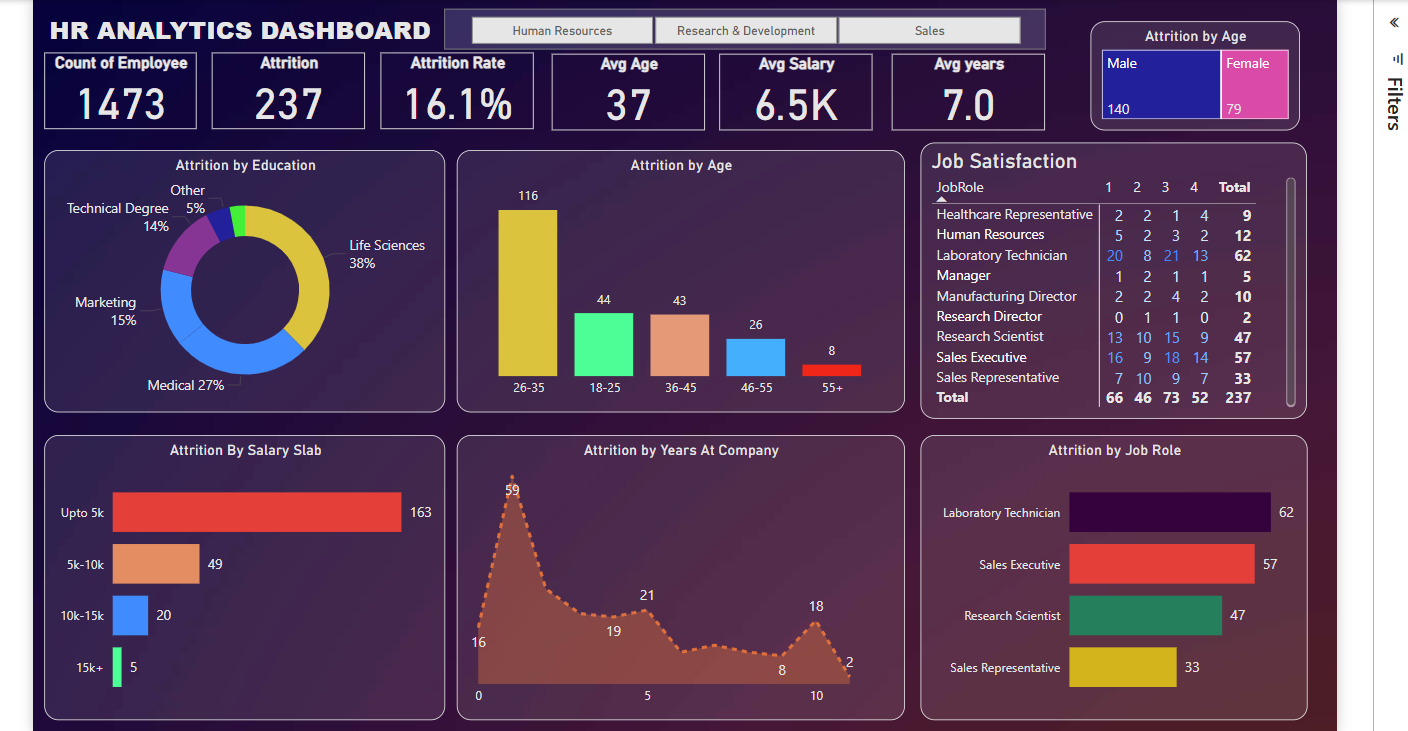

Layout of this report page (visuals, bound fields, positions):
{"tool":"powerbi","page":{"name":"Page 1","canvas":[1280,720],"ordinal":0},"visuals":[{"type":"card","title":"Count of Employee","fields":{"Values":["CountNonNull(Main data.EmpID)"]},"box":[10.7,51.6,149.8,74.9],"z":0},{"type":"card","title":"Attrition","fields":{"Values":["Sum(Main data.AttritionCount)"]},"box":[175.1,51.6,150.8,74.9],"z":1000},{"type":"card","title":"Attrition Rate","fields":{"Values":["Main data.AttritionRate"]},"box":[341.4,51.6,150.8,74.9],"z":2000},{"type":"card","title":"Avg Age","fields":{"Values":["Avg(Main data.Age)"]},"box":[509.7,52.5,150.8,74.9],"z":3000},{"type":"card","title":"Avg Salary","fields":{"Values":["Avg(Main data.MonthlyIncome)"]},"box":[674,52.5,150.8,74.9],"z":4000},{"type":"card","title":"Avg years","fields":{"Values":["Avg(Main data.YearsAtCompany)"]},"box":[843.3,52.5,150.8,74.9],"z":5000},{"type":"donutChart","title":"Attrition by Education","fields":{"Category":["Main data.EducationField"],"Y":["Sum(Main data.AttritionCount)"]},"box":[10.7,146.9,393.9,257.8],"z":6000},{"type":"columnChart","title":"Attrition by Age","fields":{"Category":["Main data.AgeGroup"],"Y":["Sum(Main data.AttritionCount)"]},"box":[416.3,146.9,439.6,257.8],"z":7000},{"type":"pivotTable","title":"Job Satisfaction","fields":{"Rows":["Main data.JobRole"],"Columns":["Main data.JobSatisfaction"],"Values":["Sum(Main data.AttritionCount)"]},"box":[871.5,140.1,379.3,271.4],"z":7001},{"type":"barChart","title":"Attrition By Salary Slab","fields":{"Category":["Main data.SalarySlab"],"Y":["Sum(Main data.AttritionCount)"]},"box":[10.7,427,393.9,280.1],"z":7002},{"type":"barChart","title":"Attrition by Job Role","fields":{"Y":["Sum(Main data.AttritionCount)"],"Category":["Main data.JobRole"]},"box":[871.5,427,380.3,280.1],"z":7003},{"type":"areaChart","title":"Attrition by Years At Company","fields":{"Category":["Main data.YearsAtCompany"],"Y":["Sum(Main data.AttritionCount)"]},"box":[416.3,427,439.6,280.1],"z":7004},{"type":"treemap","title":"Attrition by Age","fields":{"Group":["Main data.Gender"],"Values":["Sum(Main data.AttritionCount)"]},"box":[1037.8,20.4,205.2,107],"z":7005},{"type":"slicer","fields":{"Values":["Main data.Department"]},"box":[403.6,8.8,590.4,39.9],"z":7006},{"type":"textbox","box":[10.7,7.8,393.9,49.6],"z":7007}]}

Visuals, with their boxes in screenshot pixels (x1, y1, x2, y2):
"Count of Employee" card: 29:39:185:116
"Attrition" card: 200:39:356:116
"Attrition Rate" card: 372:39:528:116
"Avg Age" card: 546:40:703:117
"Avg Salary" card: 717:40:873:117
"Avg years" card: 892:40:1048:117
"Attrition by Education" donutChart: 29:138:438:405
"Attrition by Age" columnChart: 450:138:905:405
"Job Satisfaction" pivotTable: 921:130:1314:412
"Attrition By Salary Slab" barChart: 29:428:438:718
"Attrition by Job Role" barChart: 921:428:1315:718
"Attrition by Years At Company" areaChart: 450:428:905:718
"Attrition by Age" treemap: 1094:6:1306:117
slicer - Main data.Department: 437:0:1048:36
textbox: 29:0:438:45
